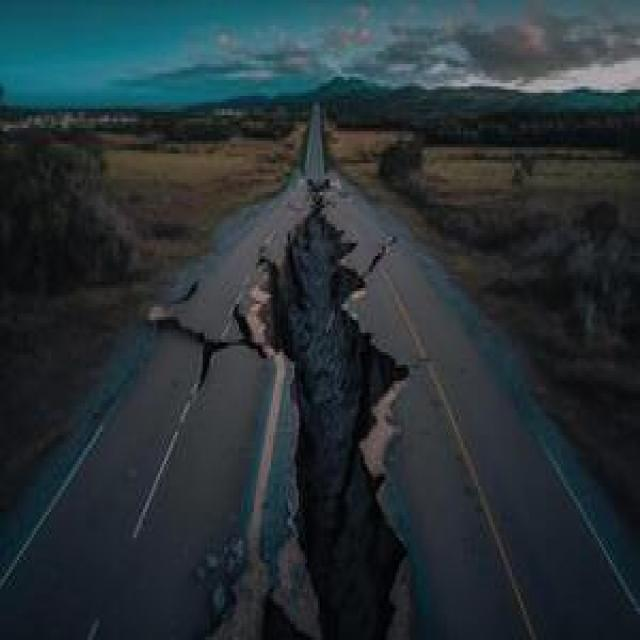road collapse: (75, 64, 549, 640)
